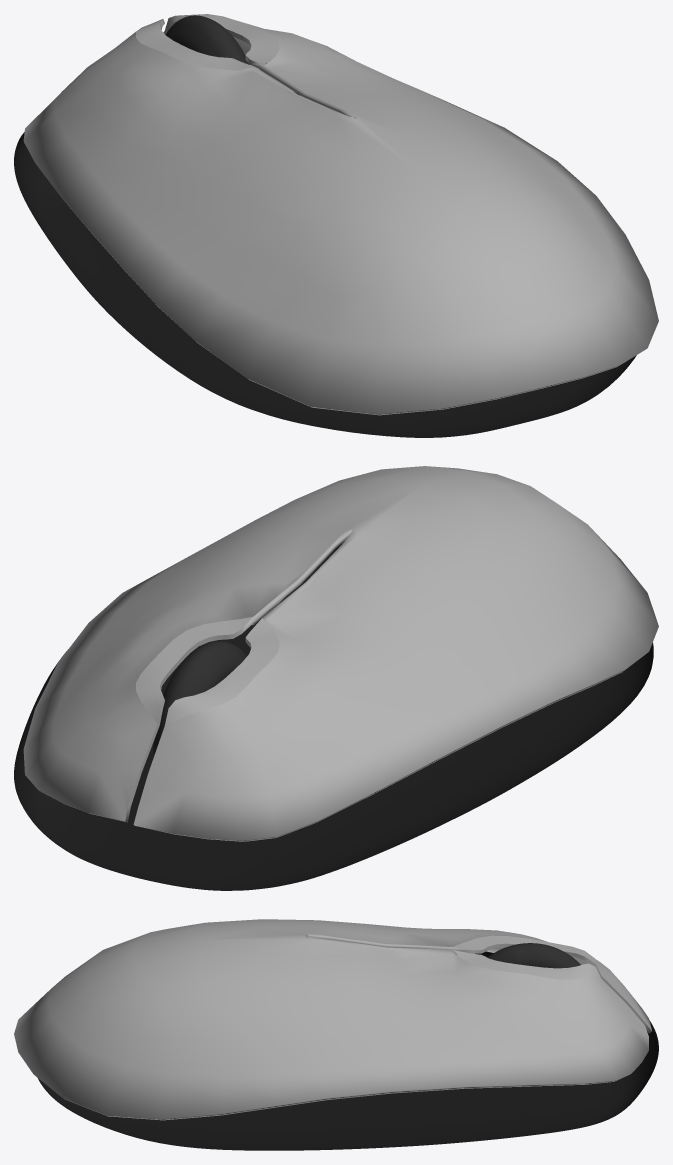
Rendered from mouse.fbx.
3 renders of one model, top to bottom at view 1: azimuth 30°, elevation 25°; view 2: azimuth 150°, elevation 25°; view 3: azimuth 270°, elevation 25°, orthographic. The views are drawn at different scales.
Parts seen in each view (by area): view 1: Plane, Plane.001, Torus.001; view 2: Plane, Plane.001, Torus.001; view 3: Plane, Plane.001, Torus.001.
Part boxes in pixels (<box>): Plane: <box>23,14,658,415</box>; Plane.001: <box>14,64,636,437</box>; Torus.001: <box>166,15,249,64</box>; Plane: <box>23,466,658,841</box>; Plane.001: <box>14,541,653,890</box>; Torus.001: <box>153,641,246,757</box>; Plane: <box>14,919,651,1120</box>; Plane.001: <box>38,951,658,1150</box>; Torus.001: <box>487,943,580,968</box>.
Size of the model in its own units: 308 by 130 by 496.
